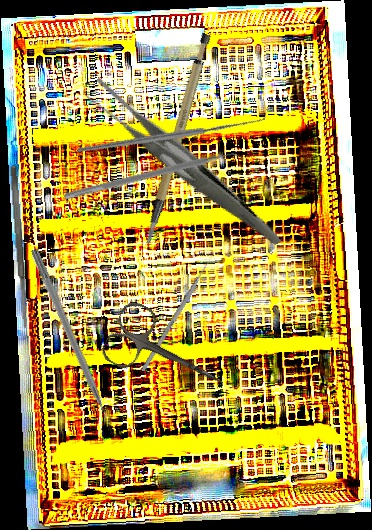Dressing Forceps: (81, 42, 282, 288)
Hook Surgical: (76, 50, 269, 212)
Iris Scissors: (98, 297, 238, 414)
Pusher: (28, 247, 117, 438), (140, 252, 216, 373)
Scalpel Handle: (112, 31, 239, 245)
Spatula Surgical: (63, 145, 246, 208), (8, 164, 30, 331)
